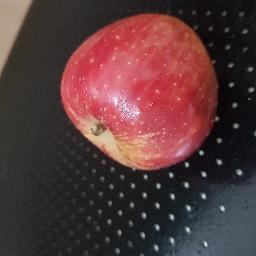Good_apple: (61, 14, 219, 171)
